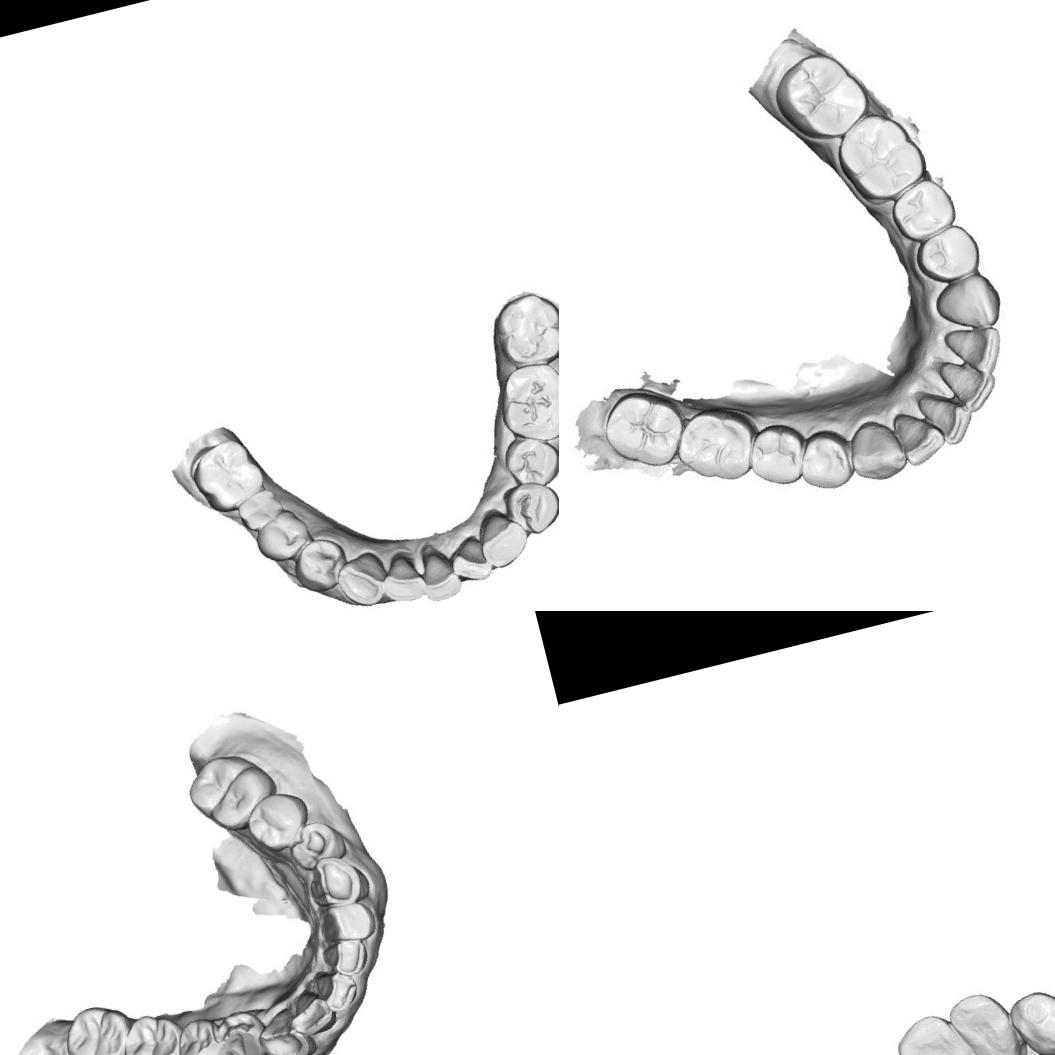canine: (934, 271, 1002, 335), (302, 850, 370, 910), (846, 416, 906, 483), (473, 504, 532, 572), (331, 546, 392, 611), (1003, 982, 1055, 1055), (253, 1003, 314, 1055)
incisor: (943, 983, 1029, 1055), (888, 1004, 975, 1055), (370, 542, 432, 611), (937, 349, 1000, 414), (890, 401, 950, 469), (941, 318, 1007, 378), (412, 538, 466, 606), (918, 386, 974, 447), (317, 895, 380, 948), (442, 526, 494, 586), (318, 934, 376, 985), (313, 964, 364, 1017), (288, 988, 335, 1036)
molar: (830, 106, 926, 208), (178, 746, 282, 839), (774, 48, 867, 145), (668, 406, 764, 490), (598, 388, 687, 473), (491, 354, 559, 450), (188, 432, 267, 513), (488, 284, 559, 373), (58, 997, 137, 1055), (117, 1006, 191, 1055)
premolar: (912, 222, 988, 288), (241, 788, 310, 855), (248, 505, 316, 569), (890, 178, 960, 239), (745, 424, 810, 486), (497, 429, 559, 493), (500, 474, 559, 540), (793, 431, 854, 494), (290, 532, 350, 596), (285, 814, 345, 870), (232, 482, 288, 536), (172, 1011, 234, 1055), (219, 1007, 268, 1055)
